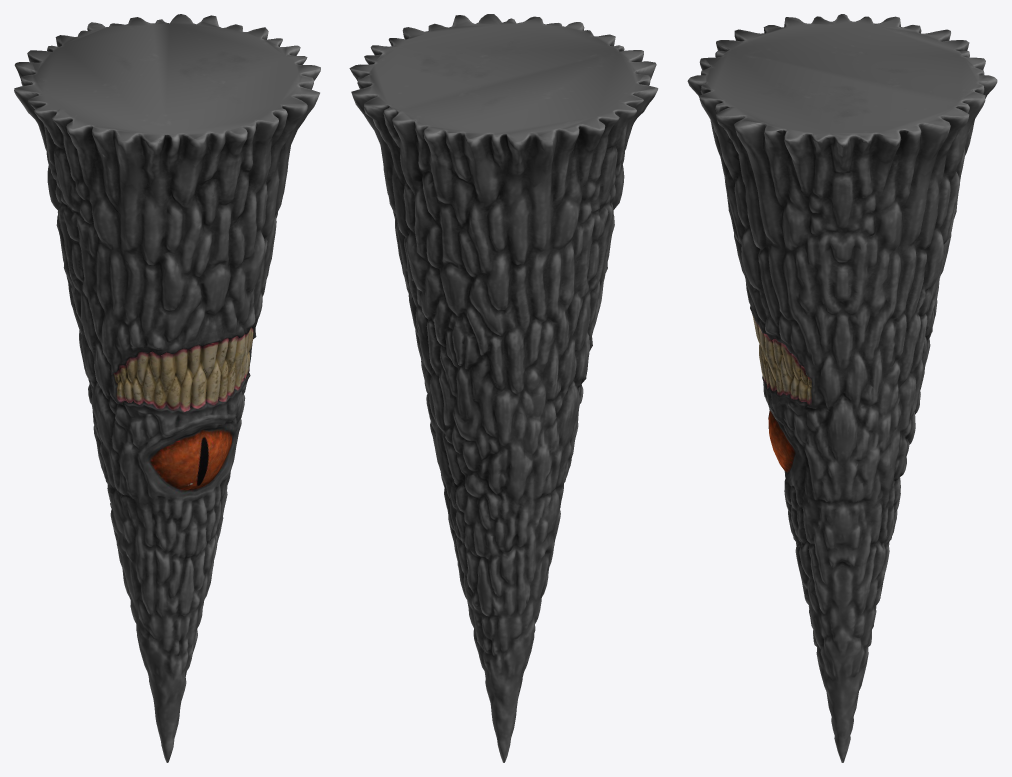
Rendered from MZ4250 - Piercer 2025 4K.glb.
3 views of the same model, side by side, from view 1: azimuth 30°, elevation 25°; view 2: azimuth 150°, elevation 25°; view 3: azimuth 270°, elevation 25° (orthographic).
Parts seen in each view (by area): view 1: ORGANIC BASE SPHERE.001; view 2: ORGANIC BASE SPHERE.001; view 3: ORGANIC BASE SPHERE.001.
Part boxes in pixels (x1=…): ORGANIC BASE SPHERE.001: x1=14, y1=14, x2=320, y2=762; ORGANIC BASE SPHERE.001: x1=349, y1=14, x2=658, y2=762; ORGANIC BASE SPHERE.001: x1=687, y1=14, x2=997, y2=762.
Size of the model in its own units: 46.92 by 116 by 47.58.
Materials: 1 (1 with a texture image).
